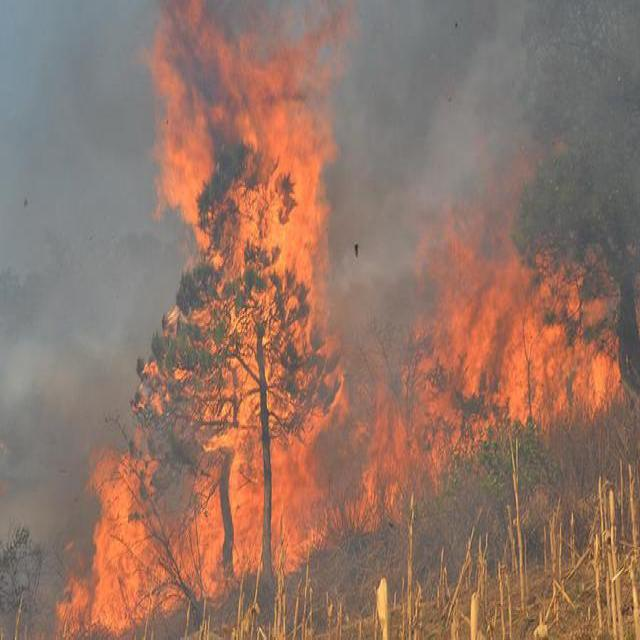fire: (142, 3, 358, 600), (362, 203, 628, 489), (58, 442, 164, 628)
